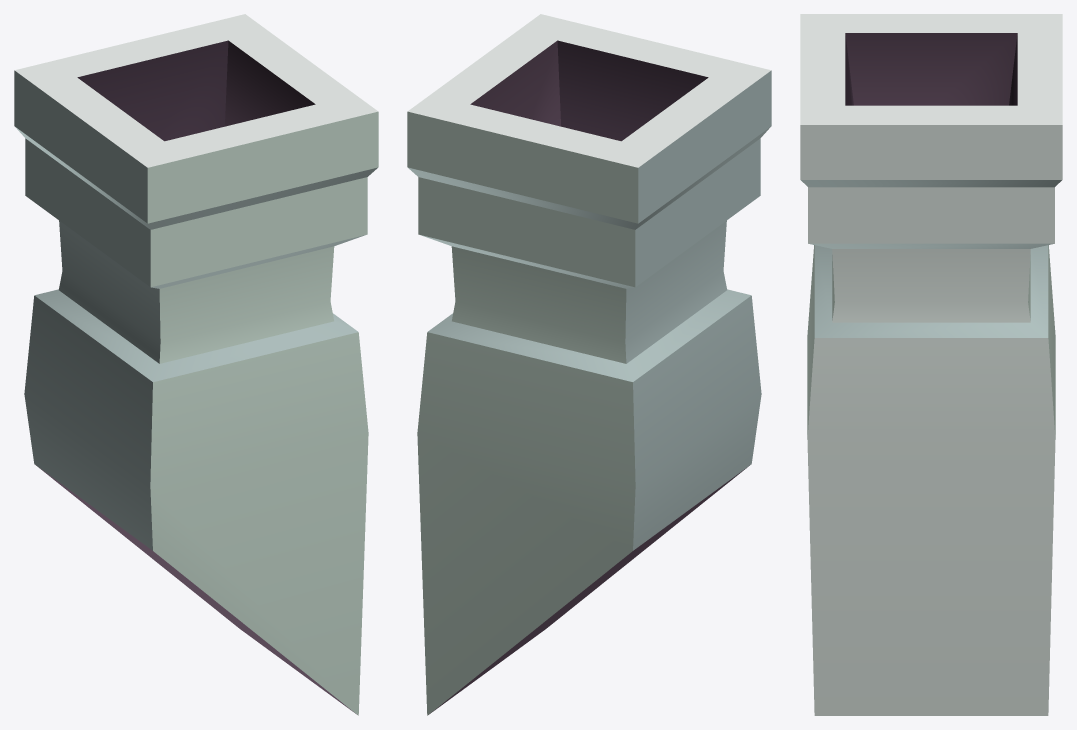
File: Chimney02_White.glb
3 views of the same model, side by side, from view 1: azimuth 30°, elevation 25°; view 2: azimuth 150°, elevation 25°; view 3: azimuth 270°, elevation 25° (orthographic).
Visible parts, largest first — view 1: Chimney02_White; view 2: Chimney02_White; view 3: Chimney02_White.
Boxes of the visible parts, left/top/right/bottom form: Chimney02_White: left=14, top=14, right=378, bottom=715; Chimney02_White: left=407, top=14, right=771, bottom=715; Chimney02_White: left=800, top=14, right=1062, bottom=715.
Size of the model in its own units: 0.5019 by 1.26 by 0.5019.
Materials: 1 (1 with a texture image).
